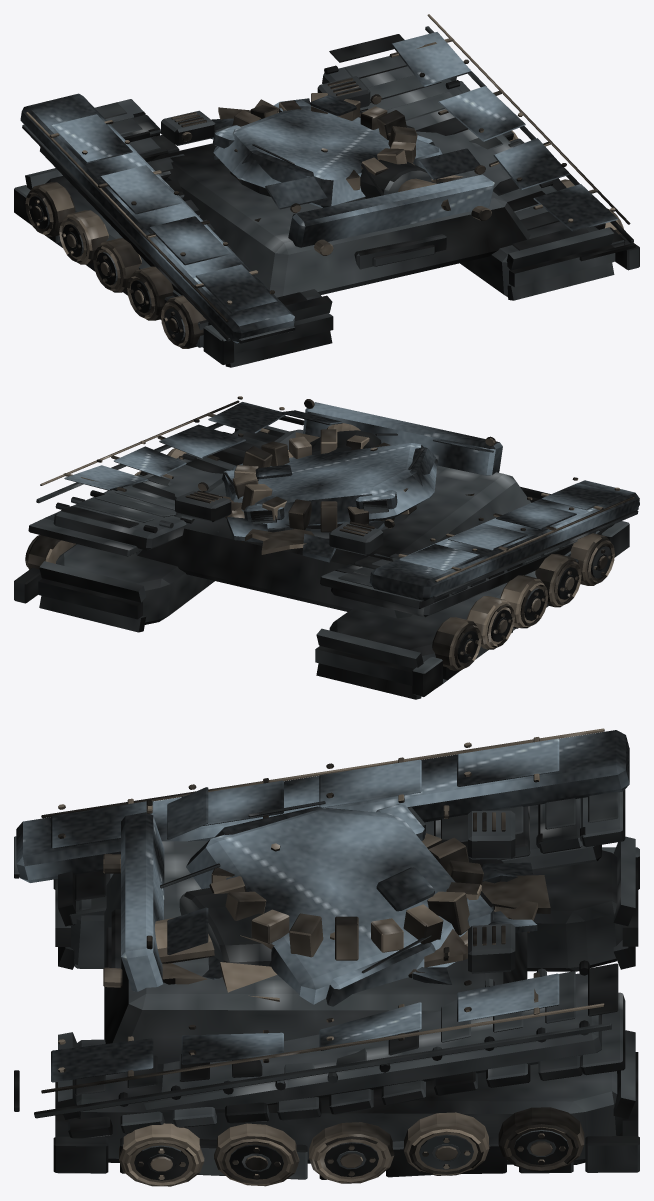
Rendered from tank-2.glb.
3 views of the same model, one above another, from view 1: azimuth 30°, elevation 25°; view 2: azimuth 150°, elevation 25°; view 3: azimuth 270°, elevation 25° (orthographic). The views are drawn at different scales.
Visible parts, largest first — view 1: wreck.tank.structure, wreck.tank.team, wreck.tank.neutral; view 2: wreck.tank.structure, wreck.tank.team, wreck.tank.neutral; view 3: wreck.tank.structure, wreck.tank.team, wreck.tank.neutral.
Part boxes in pixels (x1,y1,x2,y2): wreck.tank.structure: (14, 26, 639, 367); wreck.tank.team: (20, 32, 618, 343); wreck.tank.neutral: (25, 14, 630, 348); wreck.tank.structure: (14, 416, 639, 699); wreck.tank.team: (64, 402, 639, 600); wreck.tank.neutral: (25, 396, 634, 670); wreck.tank.structure: (14, 789, 639, 1180); wreck.tank.team: (16, 730, 629, 1082); wreck.tank.neutral: (41, 728, 604, 1186).
Size of the model in its own units: 3.03 by 0.8599 by 2.64.
Materials: 3 (3 with a texture image).
